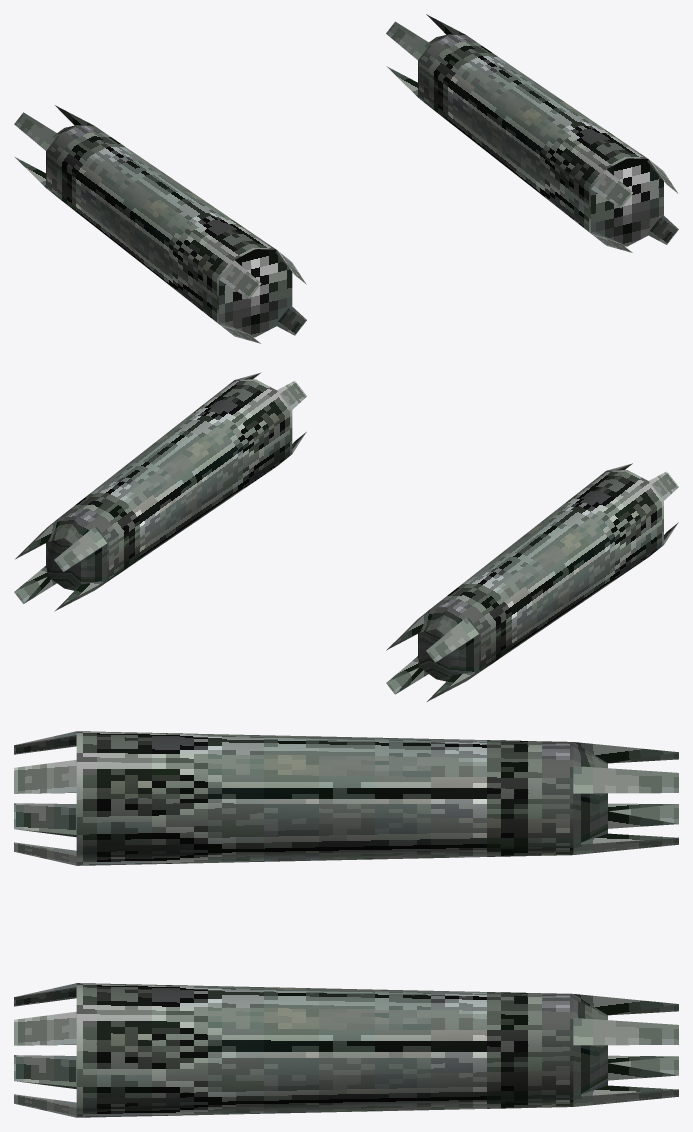
File: black_sun_fighter_light_engine_s01_l2.fbx
3 renders of one model, top to bottom at view 1: azimuth 30°, elevation 25°; view 2: azimuth 150°, elevation 25°; view 3: azimuth 270°, elevation 25°, orthographic. The views are drawn at different scales.
Parts seen in each view (by area): view 1: mesh_node; view 2: mesh_node; view 3: mesh_node.
Boxes of the visible parts, box(x1,y1,x2,y2) form: mesh_node: box(14, 14, 678, 343); mesh_node: box(14, 372, 678, 701); mesh_node: box(14, 731, 678, 1117).
Size of the model in its own units: 9.62 by 1.82 by 8.97.
1 material, 1 textured.
